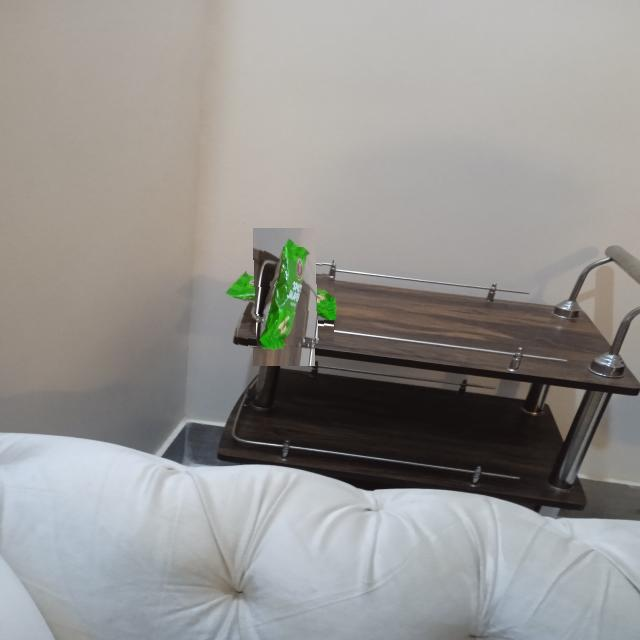Plastic: (234, 247, 334, 348)
